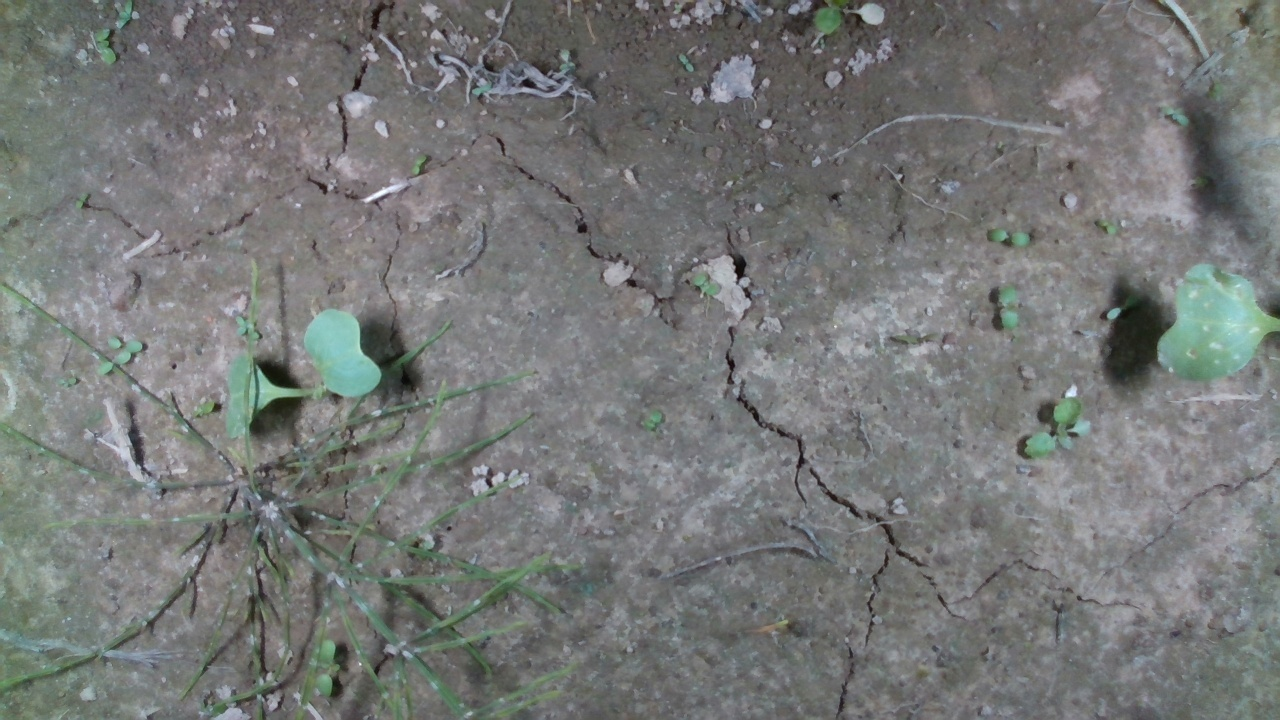weed: (1022, 394, 1093, 460), (995, 281, 1021, 332), (1104, 291, 1140, 324), (986, 226, 1033, 248), (689, 270, 723, 296), (1159, 103, 1191, 130), (640, 408, 663, 432), (1093, 216, 1118, 236), (411, 153, 428, 176), (676, 53, 695, 73)
